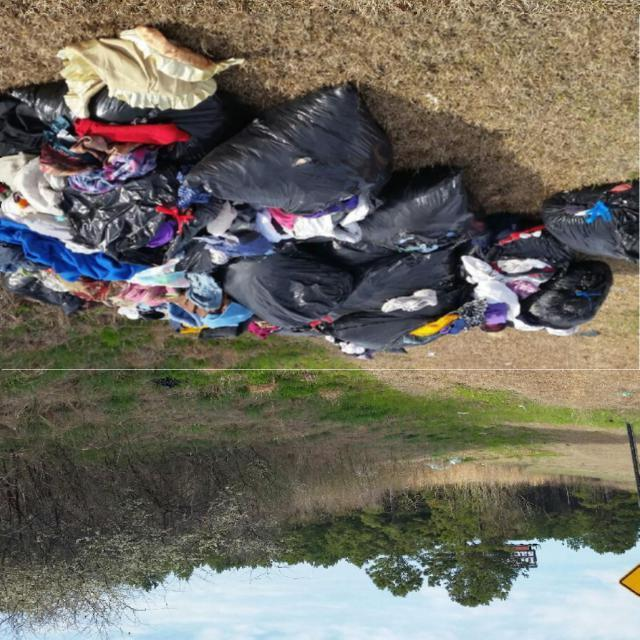Anorganik: (1, 13, 639, 371)
